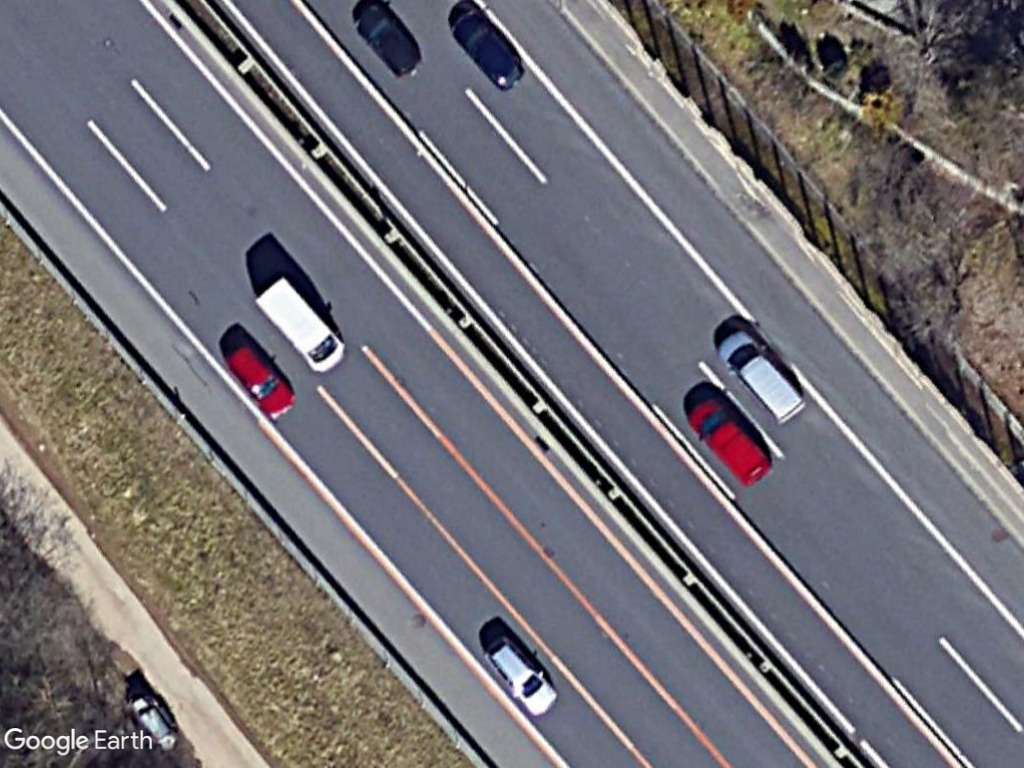car: (481, 638, 560, 716), (448, 18, 525, 91), (225, 344, 299, 419)
van: (247, 274, 349, 378), (716, 331, 807, 426), (684, 397, 775, 485)
